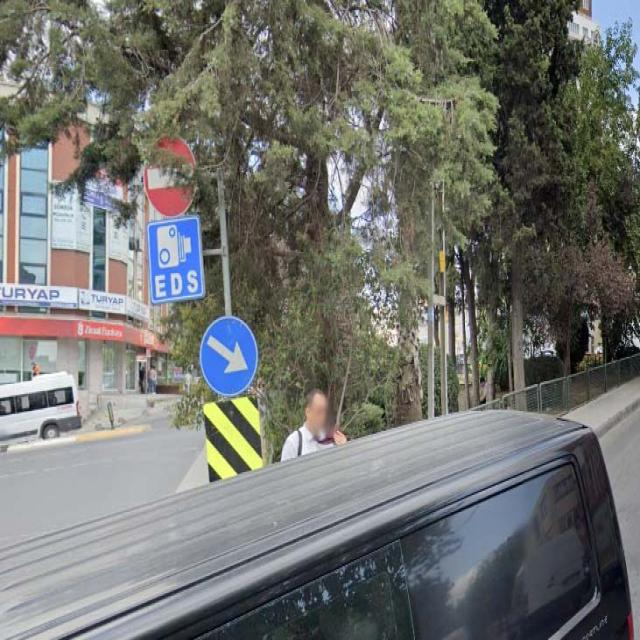girisyok: (143, 135, 198, 218)
